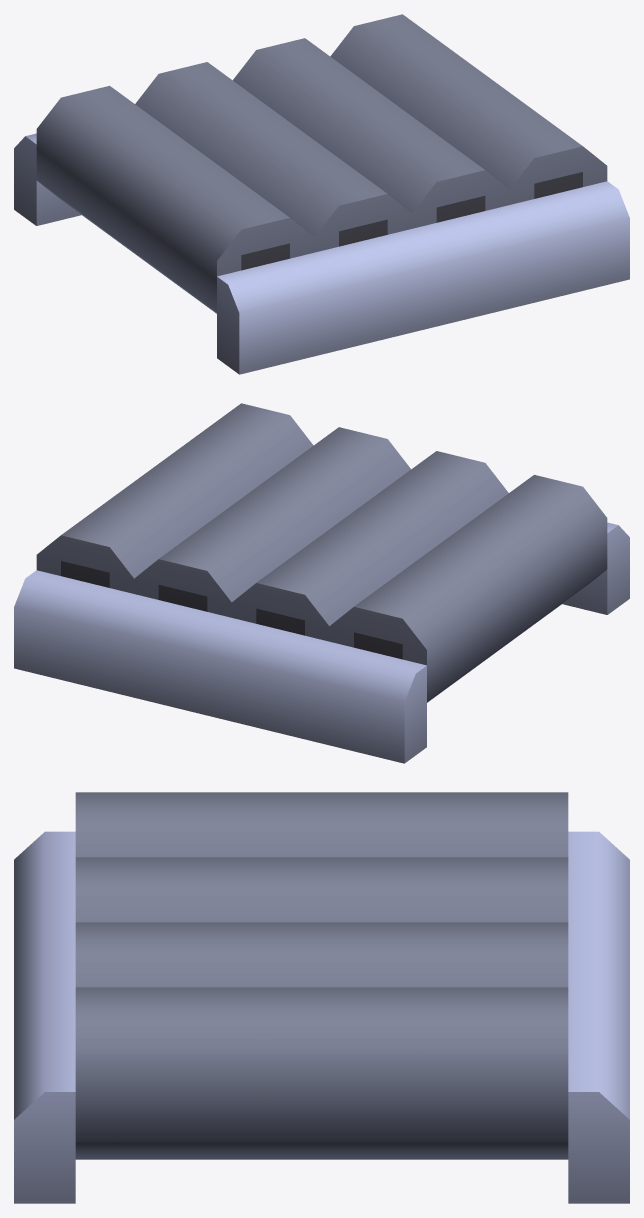
3 renders of one model, top to bottom at view 1: azimuth 30°, elevation 25°; view 2: azimuth 150°, elevation 25°; view 3: azimuth 270°, elevation 25°, orthographic. The views are drawn at different scales.
Parts seen in each view (by area): view 1: Group_1, Group; view 2: Group_1, Group; view 3: Group_1, Group.
Part boxes in pixels (left/top/right/bottom): Group_1: left=36, top=14, right=607, bottom=313; Group: left=14, top=133, right=629, bottom=374; Group_1: left=36, top=403, right=607, bottom=702; Group: left=14, top=522, right=629, bottom=763; Group_1: left=75, top=792, right=568, bottom=1159; Group: left=14, top=831, right=629, bottom=1203.
Bounding box in the file's own units: 1 × 0.3 × 1.
Materials: 1 (1 with a texture image).
